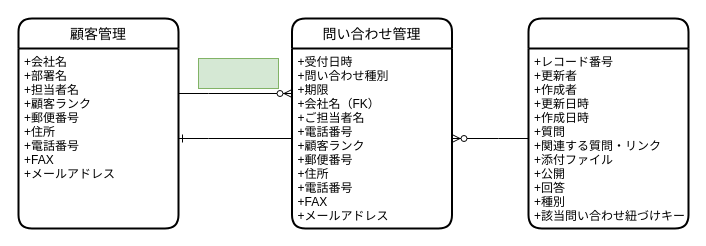
This 706x246 diagram has some shape labels left out. Each missing label, with the box of its shape:
サポートFAQ: (527, 17, 689, 229)
関連レコード: (198, 58, 278, 88)
